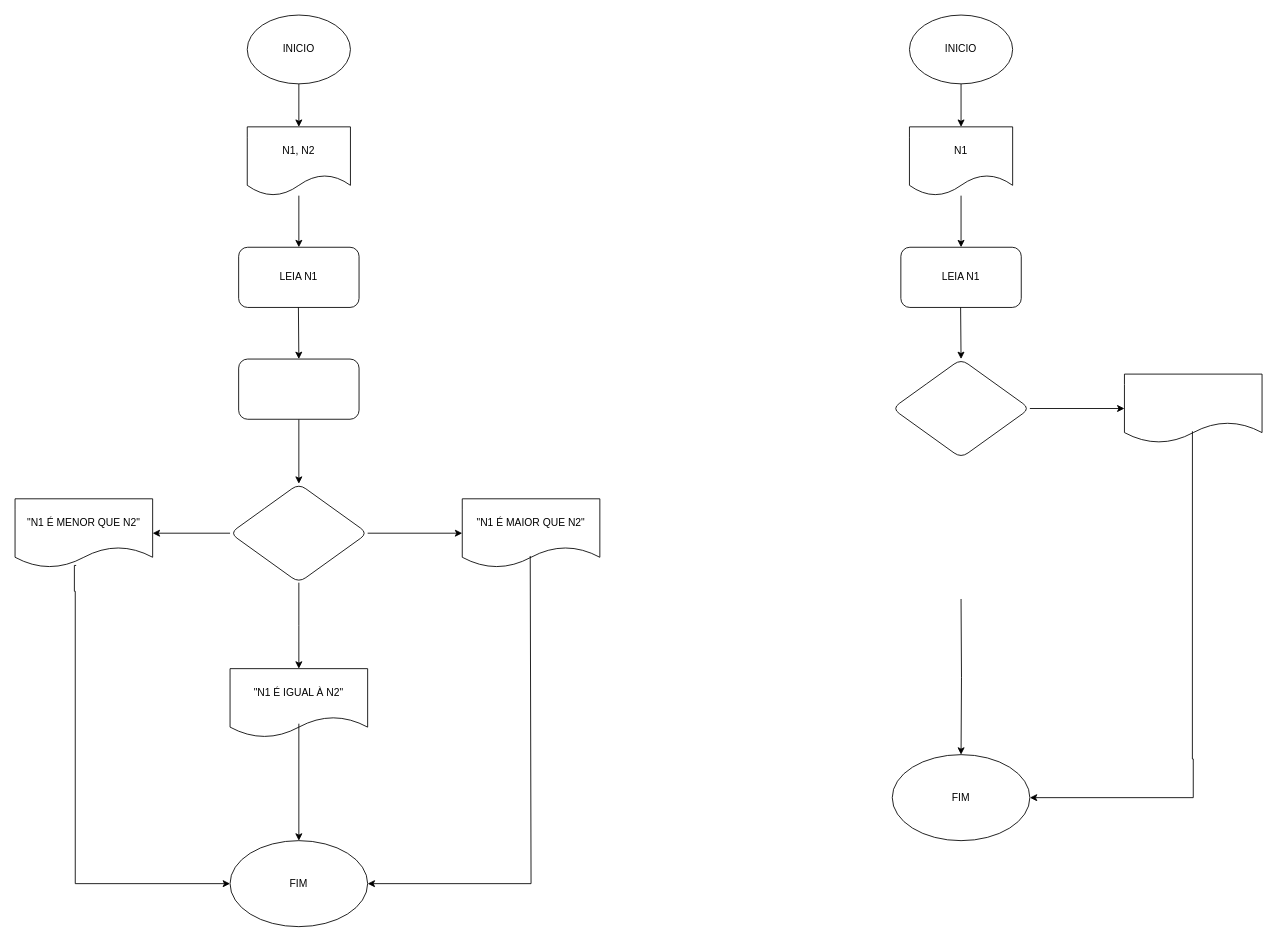
Image size: 1277x942. Some labels were removed from this diagram. Here are the shapes that lost their labels. From the top down, the centre of each, then its label:
(298,388): LEIA N2
(960,408): SE N1 >= 1
(1193,408): "N1 É POSITIVO"
(298,533): SE N1 > N2
